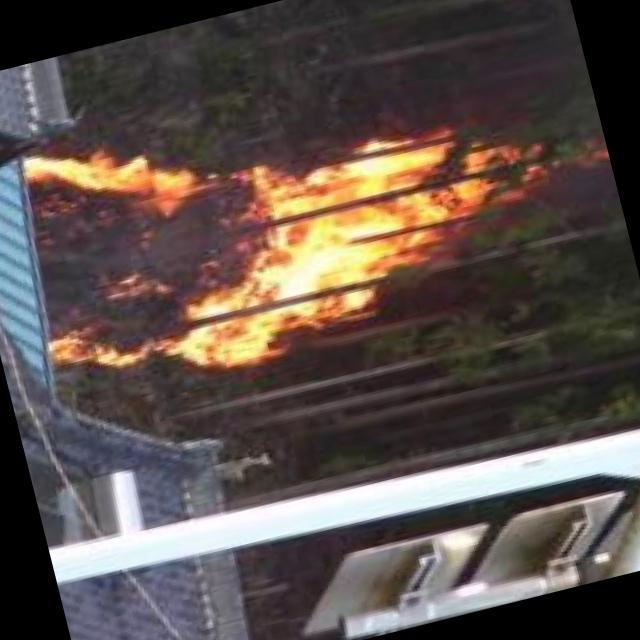Fire: (33, 40, 570, 403)
